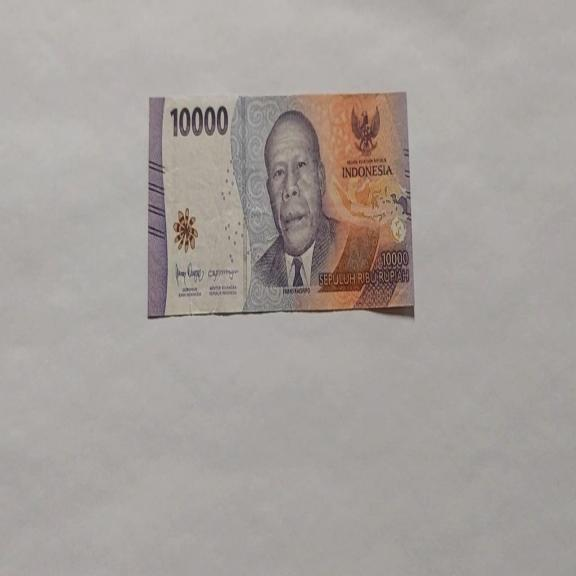Kertas: (147, 90, 415, 318), (169, 104, 229, 138)
